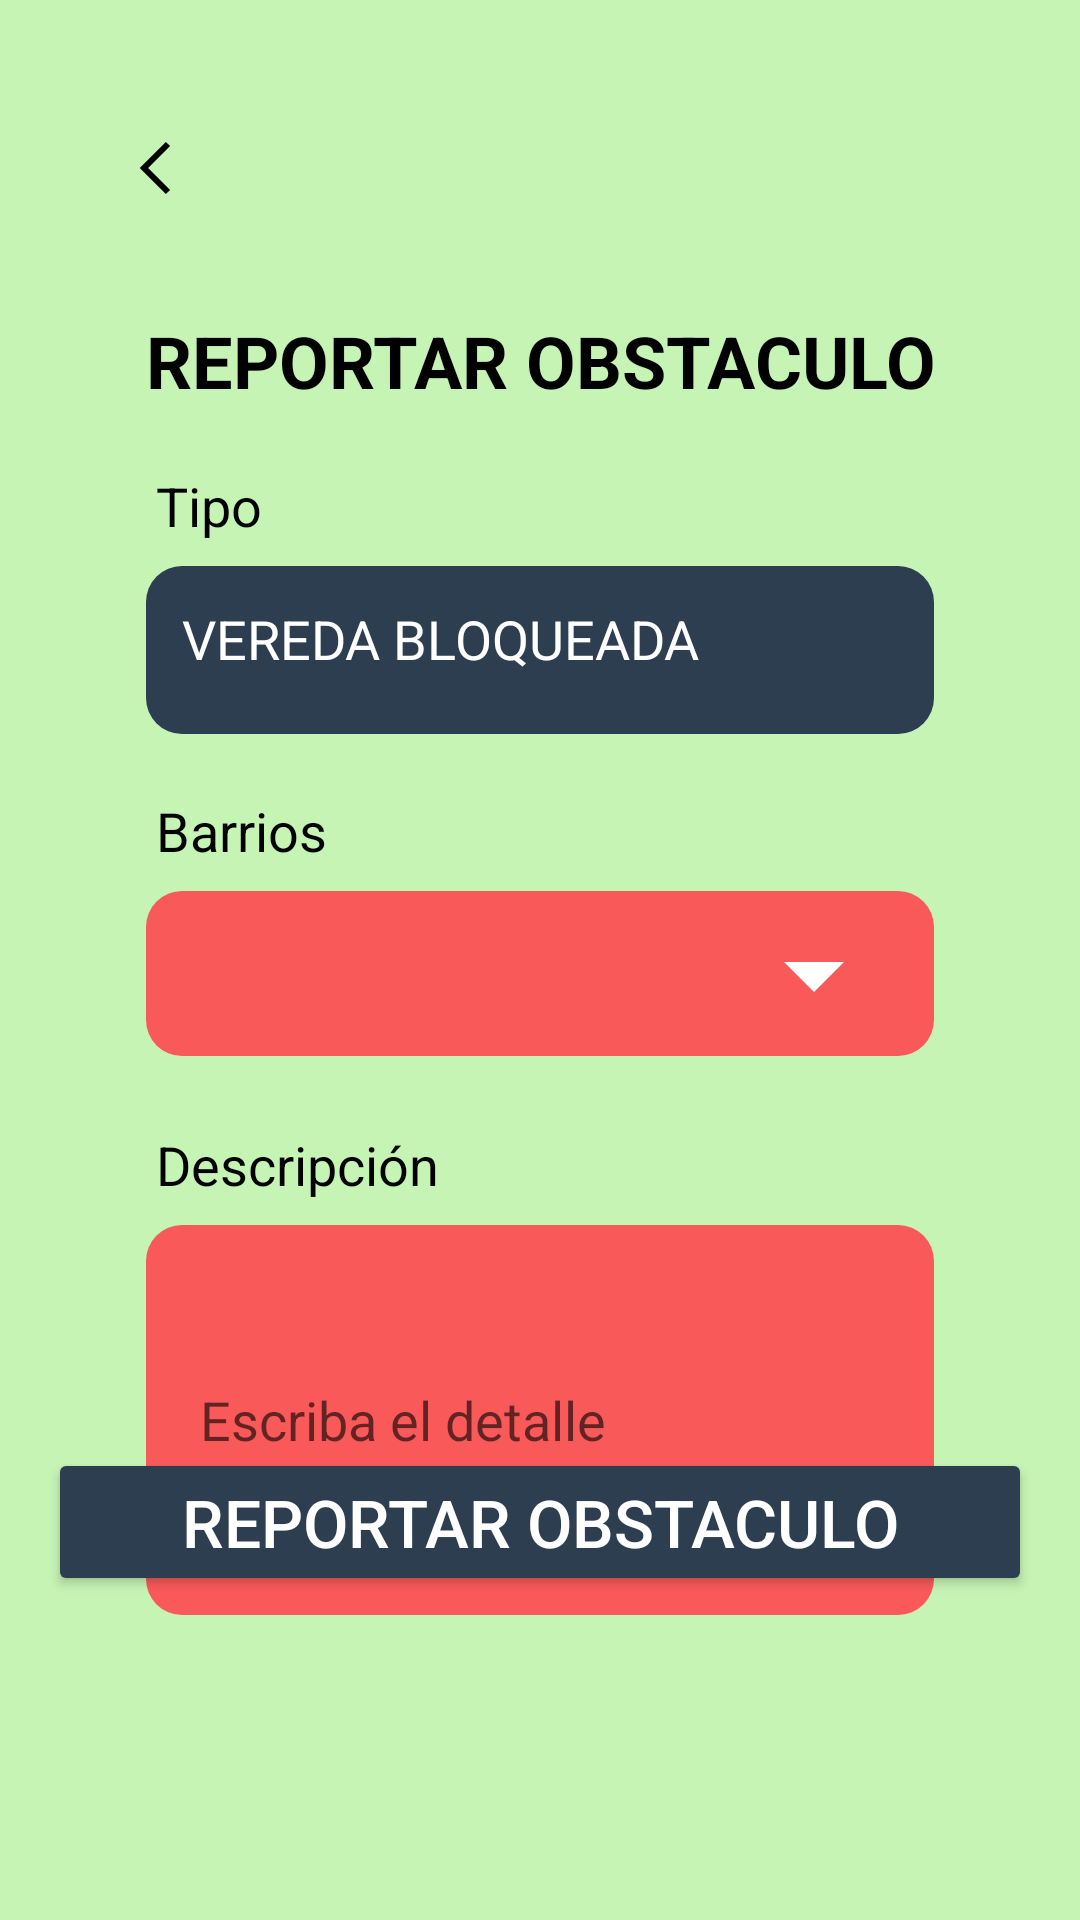

Named icons in this screenshot (1080 × 1920) and their centers, [x,y]:
Volver: [155,168]
